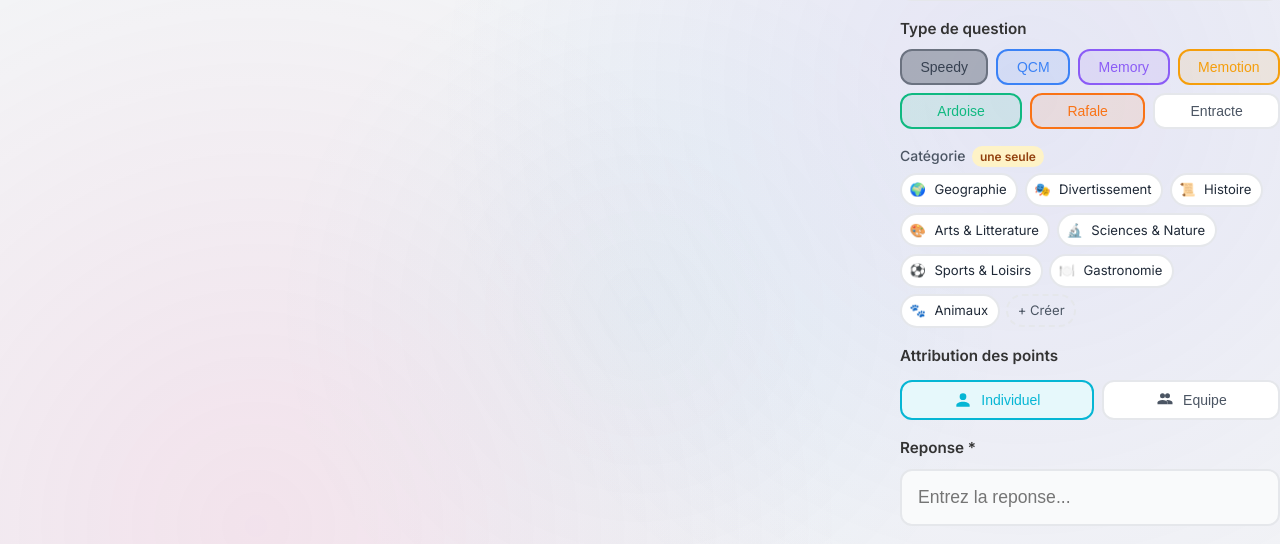
Scenario: QuestionsPage — Bouton + catégorie (#97) › cliquer sur "+" affiche le formulaire inline d'ajout de catégorie
This screenshot has width=1280, height=544.
(page scrolled)
What coordinates should you click on to do the following:
click the button titled "Créer une catégorie"
I would click on:
 (1041, 311)
Its box is [1006,294,1076,328].
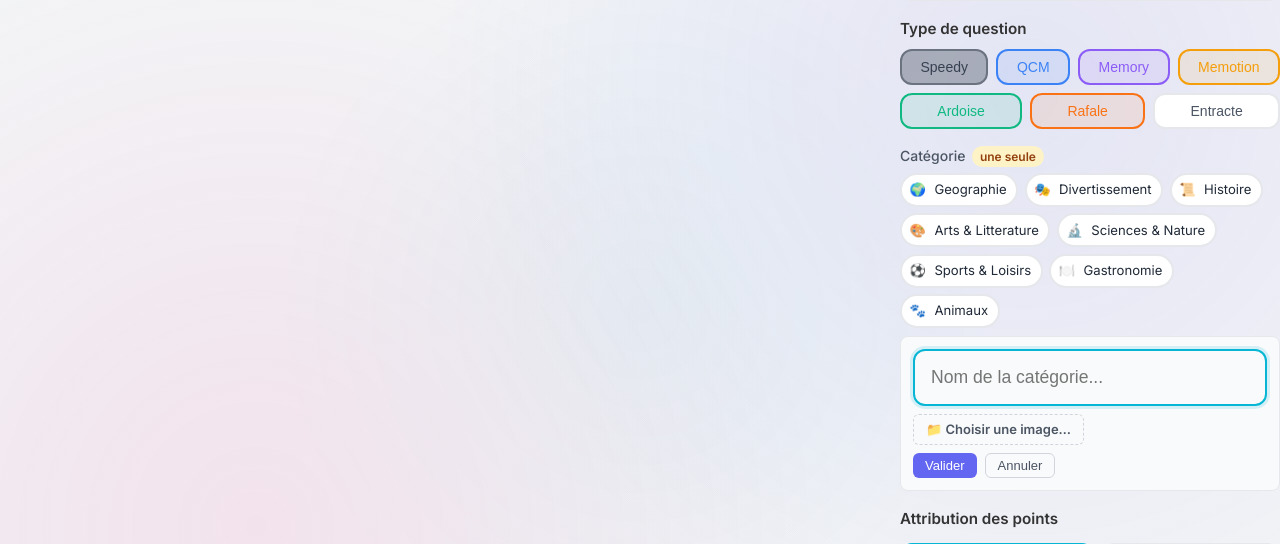
Now the element with class "add-category-inline" is shown, box [900,336,1279,491]
